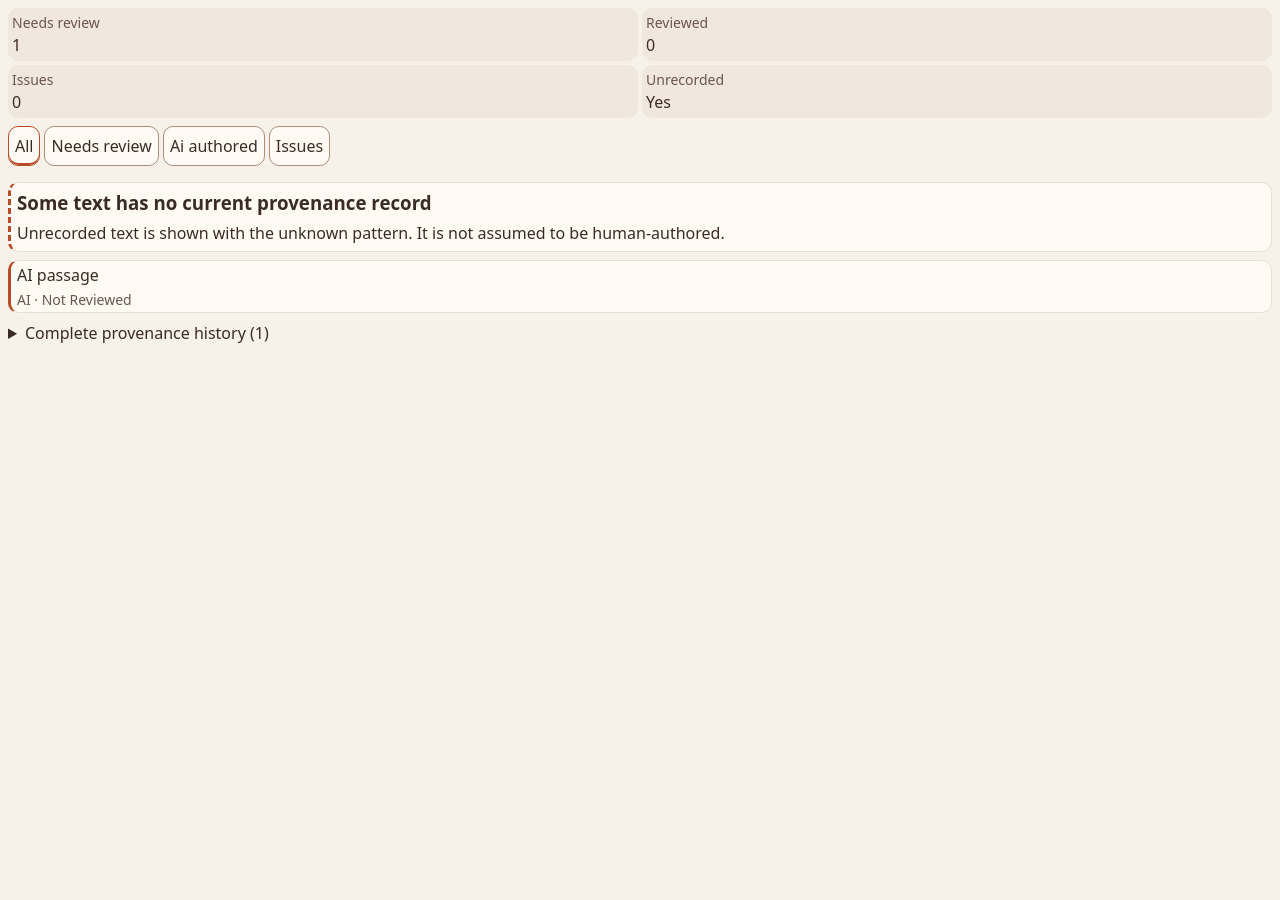
Test: ProvenancePanel › shows bounded source fields and identity strength without dumping raw metadata
Click the button "AI passage AI · not reviewed" at x=58, y=275, box [11, 261, 1271, 312]
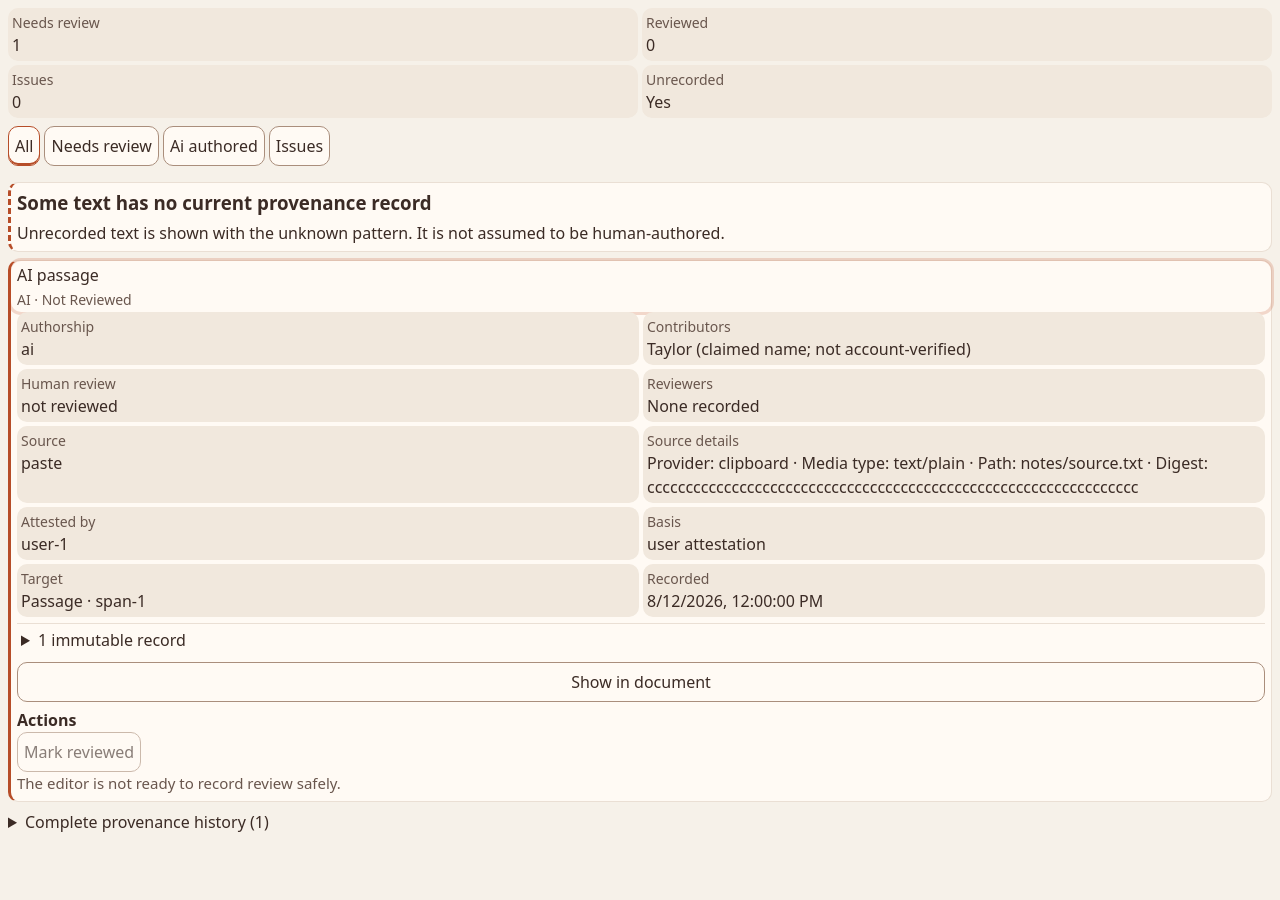
Result: the text "Taylor (claimed name; not account-verified)" is shown at [647, 338, 971, 360]
Result: the text "Path: notes/source.txt" is shown at [647, 452, 1208, 498]
